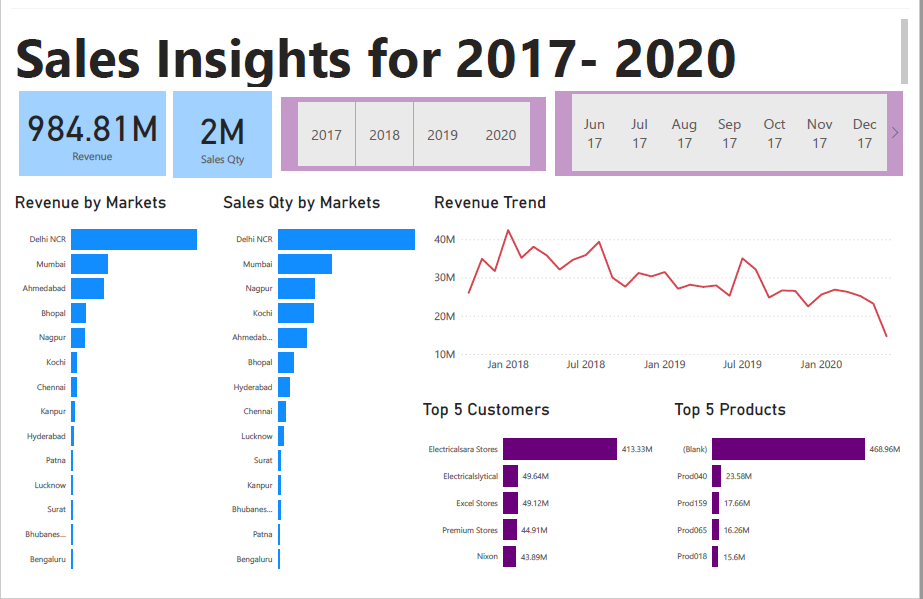

What the dashboard file says about the page in this screenshot:
{"tool":"powerbi","page":{"name":"Page 1","canvas":[1350,850],"ordinal":0},"visuals":[{"type":"card","fields":{"Values":["BaseMeasures (2).Revenue"]},"box":[11.9,105.6,219.7,132.9],"z":0},{"type":"card","fields":{"Values":["BaseMeasures (2).Sales Qty"]},"box":[243.6,110.7,148.2,131.2],"z":1000},{"type":"barChart","title":"Revenue by Markets","fields":{"Y":["BaseMeasures (2).Revenue"],"Category":["sales markets.markets_name"]},"box":[0,264,313.4,586],"z":2000},{"type":"barChart","title":"Sales Qty by Markets","fields":{"Y":["BaseMeasures (2).Sales Qty"],"Category":["sales markets.markets_name"]},"box":[313.4,264,299.8,586],"z":3000},{"type":"slicer","fields":{"Values":["sales date.year"]},"box":[405.4,122.6,396.9,109],"z":4000},{"type":"slicer","fields":{"Values":["sales date.cy_date"]},"box":[817.6,110.7,521.2,127.8],"z":5000},{"type":"barChart","title":"Top 5 Customers","fields":{"Y":["BaseMeasures (2).Revenue"],"Category":["sales customers.custmer_name"]},"box":[613.2,575.8,378.2,274.2],"z":6000},{"type":"barChart","title":"Top 5 Products","fields":{"Y":["BaseMeasures (2).Revenue"],"Category":["sales products.product_code"]},"box":[991.4,575.8,359.4,274.2],"z":7000},{"type":"lineChart","title":"Revenue Trend","fields":{"Y":["BaseMeasures (2).Revenue"],"Category":["sales date.cy_date"]},"box":[630.3,264,720.5,279.4],"z":8000},{"type":"textbox","box":[0,0,1350.8,110.7],"z":9000}]}

Visuals, with their boxes in screenshot pixels (x1, y1, x2, y2), scaled from the page's 1350x850 canvas onto the 923x599 screenshot:
card - BaseMeasures (2).Revenue: [x1=8, y1=74, x2=158, y2=168]
card - BaseMeasures (2).Sales Qty: [x1=167, y1=78, x2=268, y2=170]
"Revenue by Markets" barChart: [x1=0, y1=186, x2=214, y2=598]
"Sales Qty by Markets" barChart: [x1=214, y1=186, x2=419, y2=598]
slicer - sales date.year: [x1=277, y1=86, x2=549, y2=163]
slicer - sales date.cy_date: [x1=559, y1=78, x2=915, y2=168]
"Top 5 Customers" barChart: [x1=419, y1=406, x2=678, y2=598]
"Top 5 Products" barChart: [x1=678, y1=406, x2=922, y2=598]
"Revenue Trend" lineChart: [x1=431, y1=186, x2=922, y2=383]
textbox: [x1=0, y1=0, x2=922, y2=78]
